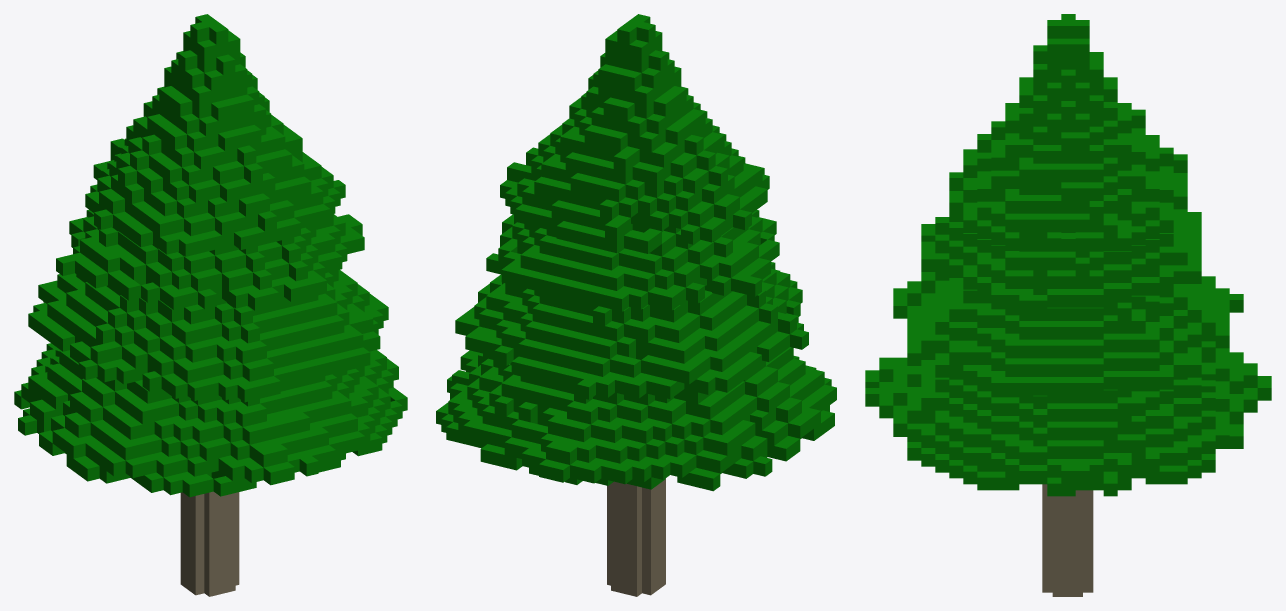
The model's file is PineTree.fbx.
The picture shows the model from 3 angles, left to right: view 1: azimuth 30°, elevation 25°; view 2: azimuth 150°, elevation 25°; view 3: azimuth 270°, elevation 25°; orthographic projection.
Parts seen in each view (by area): view 1: Pine Tree; view 2: Pine Tree; view 3: Pine Tree.
Boxes of the visible parts, x1,y1,x2,y2 form: Pine Tree: (14,14,407,596); Pine Tree: (436,14,836,596); Pine Tree: (865,14,1271,596).
Size of the model in its own units: 1.58 by 1.7 by 2.61.
